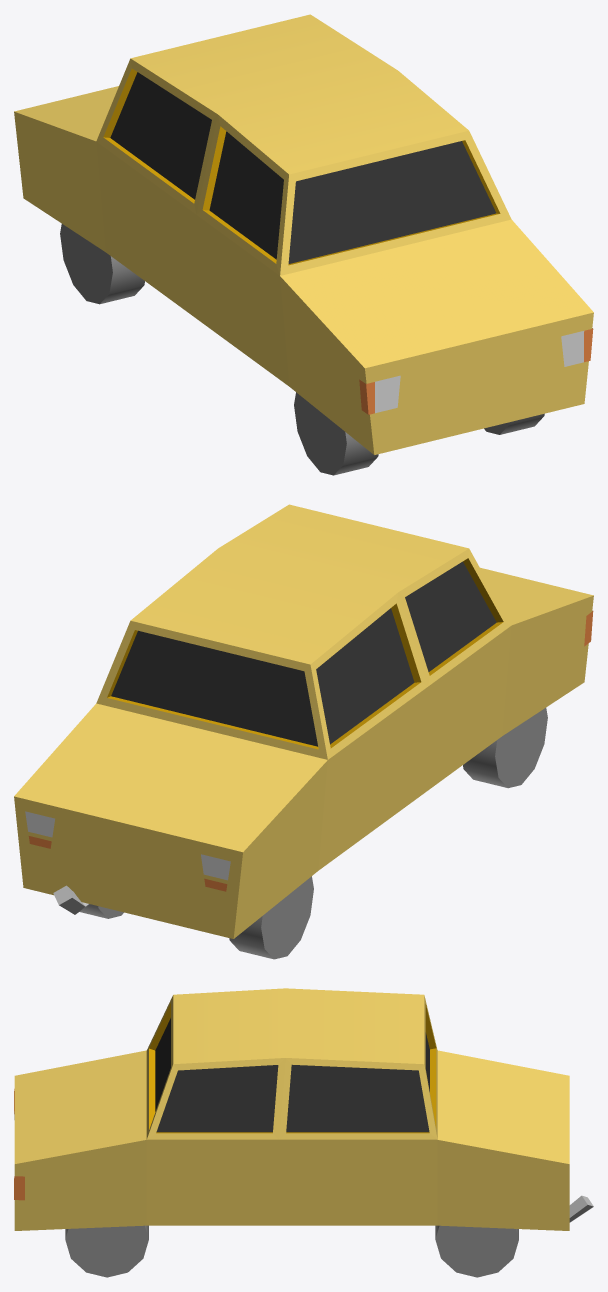
File: car_05.fbx
3 renders of one model, top to bottom at view 1: azimuth 30°, elevation 25°; view 2: azimuth 150°, elevation 25°; view 3: azimuth 270°, elevation 25°, orthographic. The views are drawn at different scales.
Parts seen in each view (by area): view 1: car_05; view 2: car_05; view 3: car_05.
Part boxes in pixels (x1,y1,x2,y2): car_05: [14, 14, 593, 475]; car_05: [14, 504, 593, 959]; car_05: [14, 988, 593, 1277].
Bounding box in the file's own units: 1.6 × 1.8 × 4.39.
